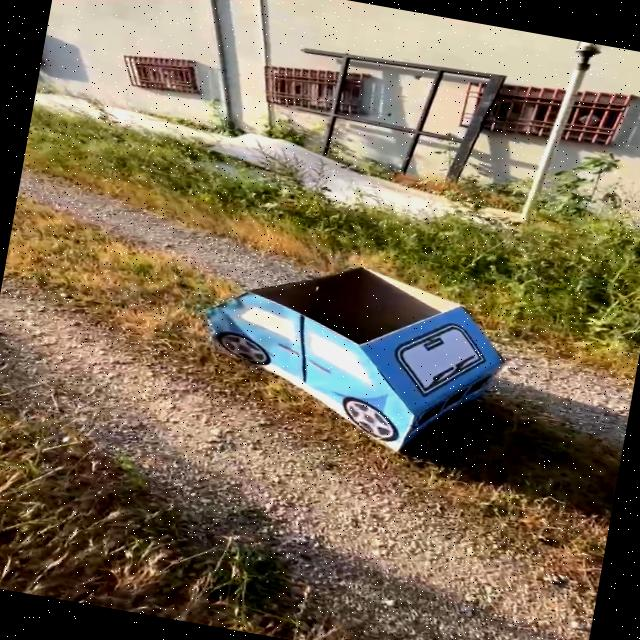blue_car: (145, 222, 562, 493)
